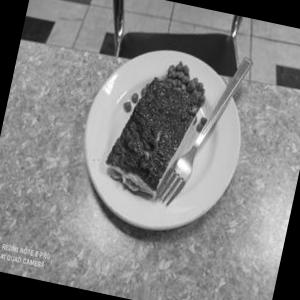casserole: (90, 47, 218, 213)
